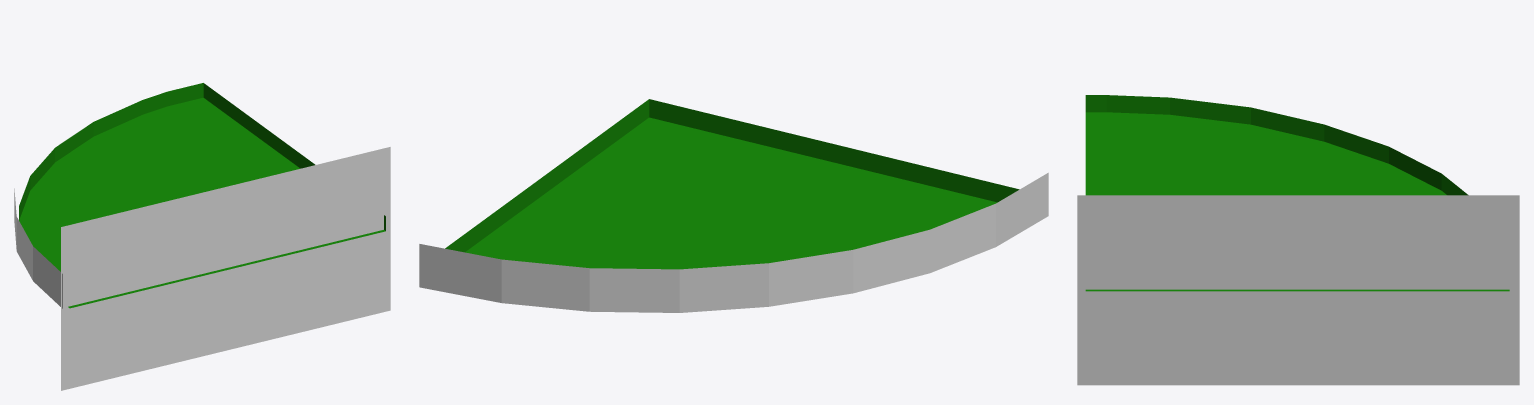
The model's file is soft_bend.glb.
3 views of the same model, side by side, from view 1: azimuth 30°, elevation 25°; view 2: azimuth 150°, elevation 25°; view 3: azimuth 270°, elevation 25° (orthographic). The views are drawn at different scales.
Parts seen in each view (by area): view 1: obj_snap, Cube, Cylinder; view 2: Cube, Cylinder; view 3: obj_snap.003, Cube.
Part boxes in pixels (left/top/right/bottom): obj_snap: left=61, top=147, right=390, bottom=390; Cube: left=19, top=83, right=385, bottom=308; Cylinder: left=14, top=188, right=62, bottom=308; Cube: left=445, top=99, right=1019, bottom=269; Cylinder: left=419, top=172, right=1048, bottom=312; obj_snap.003: left=1077, top=195, right=1519, bottom=385; Cube: left=1085, top=95, right=1509, bottom=291.
Size of the model in its own units: 4.21 by 2 by 4.21.
